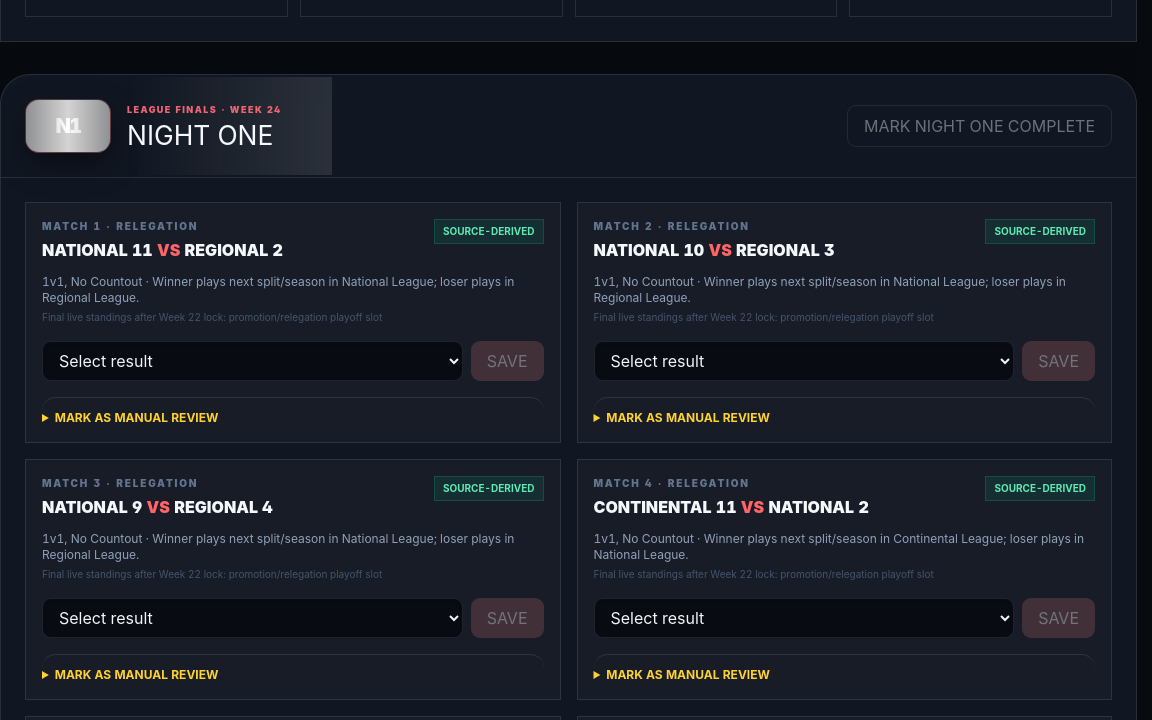
Test case: League Finals result input › enables Save after selecting a relegation No Contest result
(page scrolled)
Select "No Contest / unclear" in the dropdown named "Result for league-finals:night-one:match-1" at {"x": 252, "y": 361}, box x1=42 y1=341 x2=463 y2=381
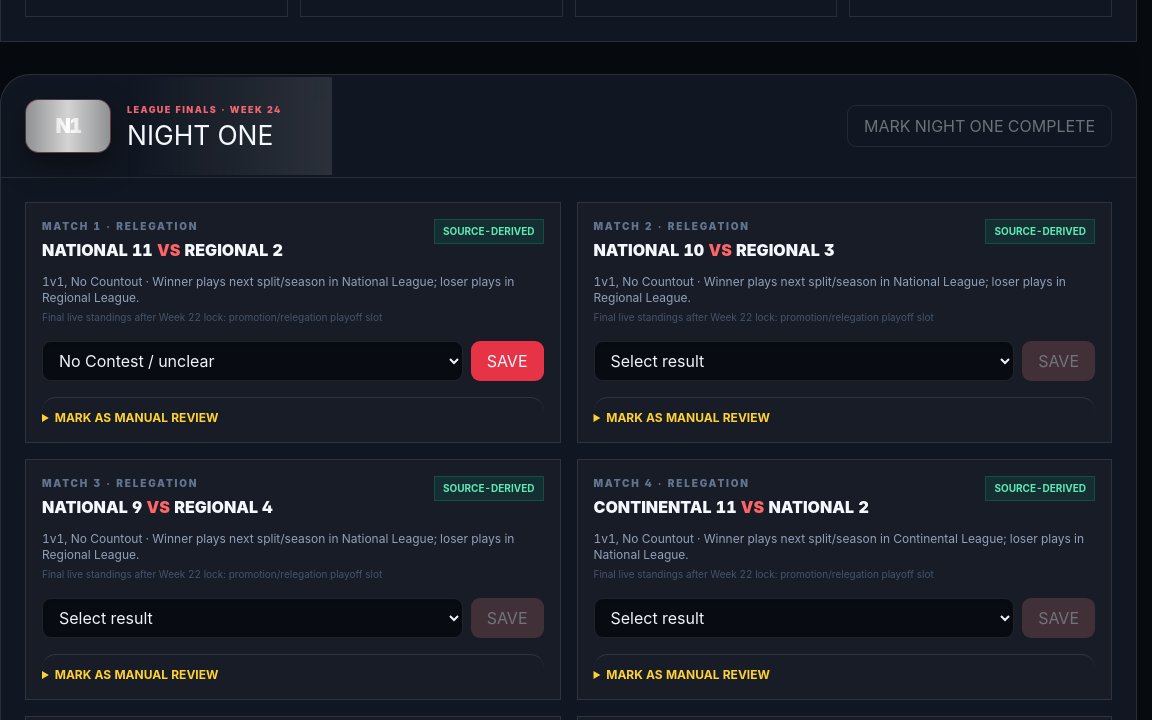
Now the button "Save" below "Regional 2" is enabled
Click the button "Save" below "Regional 2".
click(507, 361)  # box x1=471 y1=341 x2=544 y2=381
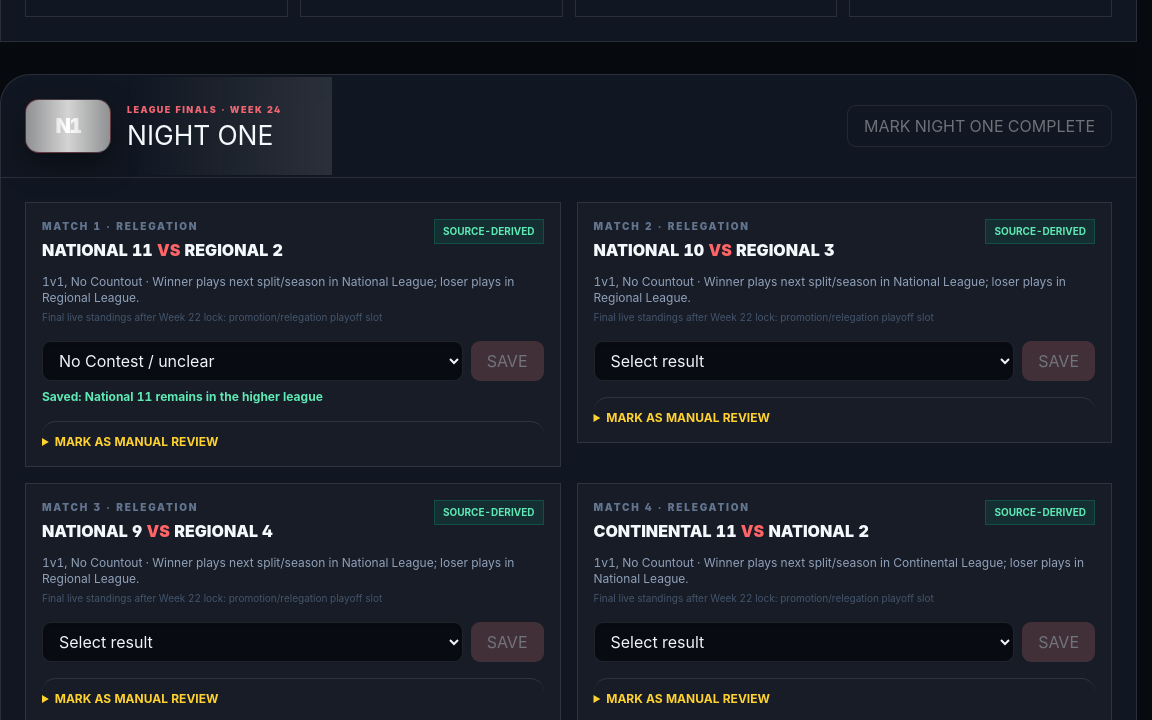
Now the text "Saved: National 11 remains in the higher league" is shown, box x1=42 y1=389 x2=323 y2=404
